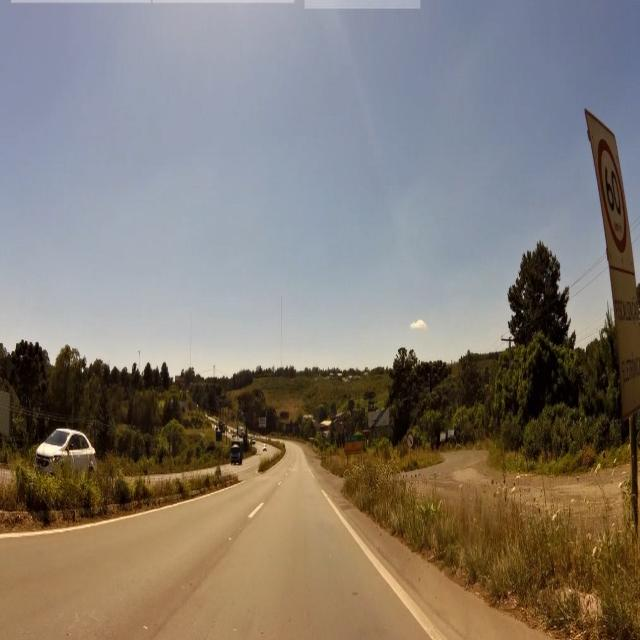R-19: (593, 135, 633, 251)
